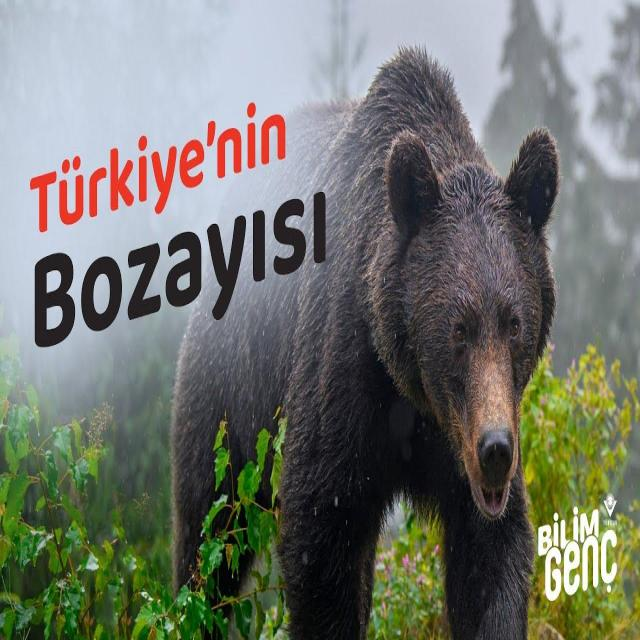Bear: (170, 48, 562, 640)
